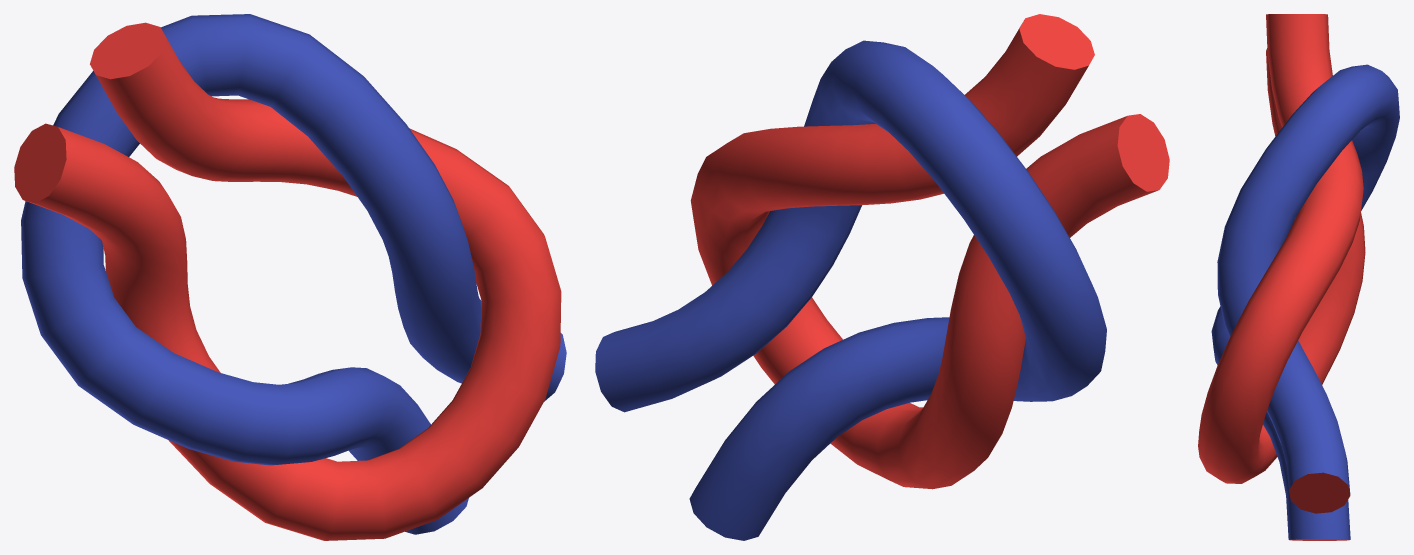
Rendered from knot.glb.
The picture shows the model from 3 angles, left to right: view 1: azimuth 30°, elevation 25°; view 2: azimuth 150°, elevation 25°; view 3: azimuth 270°, elevation 25°; orthographic projection. The views are drawn at different scales.
Visible parts, largest first — view 1: BezierCurve.005; view 2: BezierCurve.005; view 3: BezierCurve.005.
Part boxes in pixels (left/top/right/bottom): BezierCurve.005: left=14, top=14, right=566, bottom=540; BezierCurve.005: left=595, top=14, right=1169, bottom=540; BezierCurve.005: left=1198, top=14, right=1399, bottom=540.
Bounding box in the file's own units: 2.33 × 2.35 × 0.991.
Materials: 1 (1 with a texture image).
